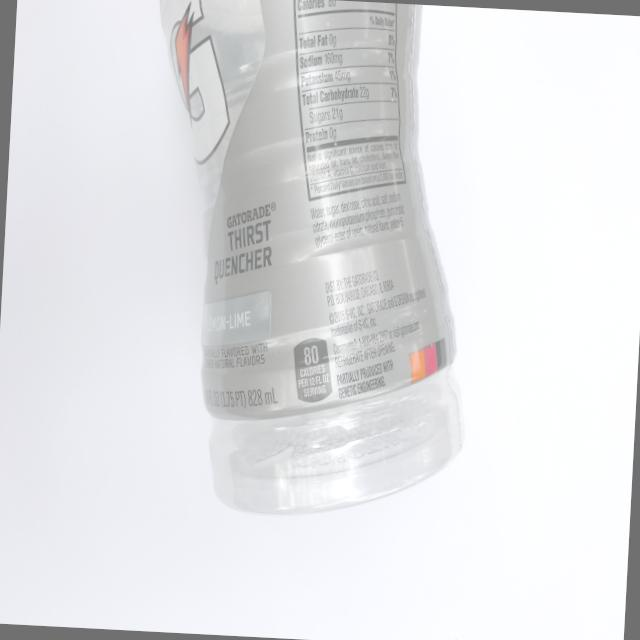Plastic: (115, 0, 502, 538)
